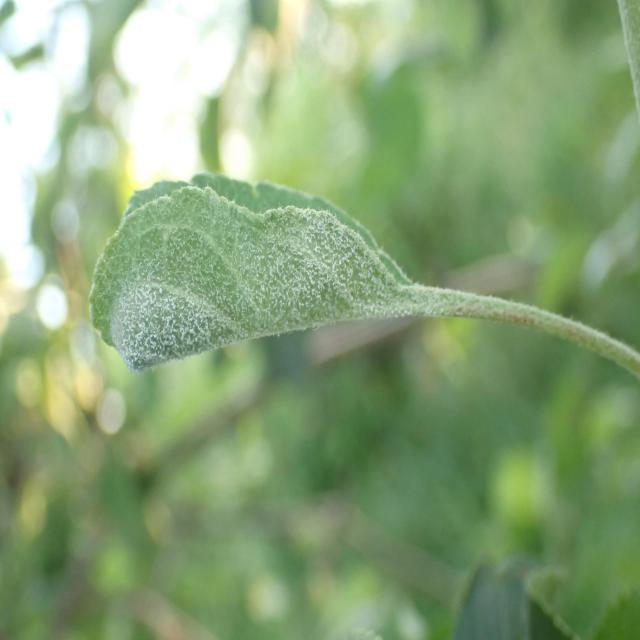Powdery_mildew: (75, 149, 486, 367)
